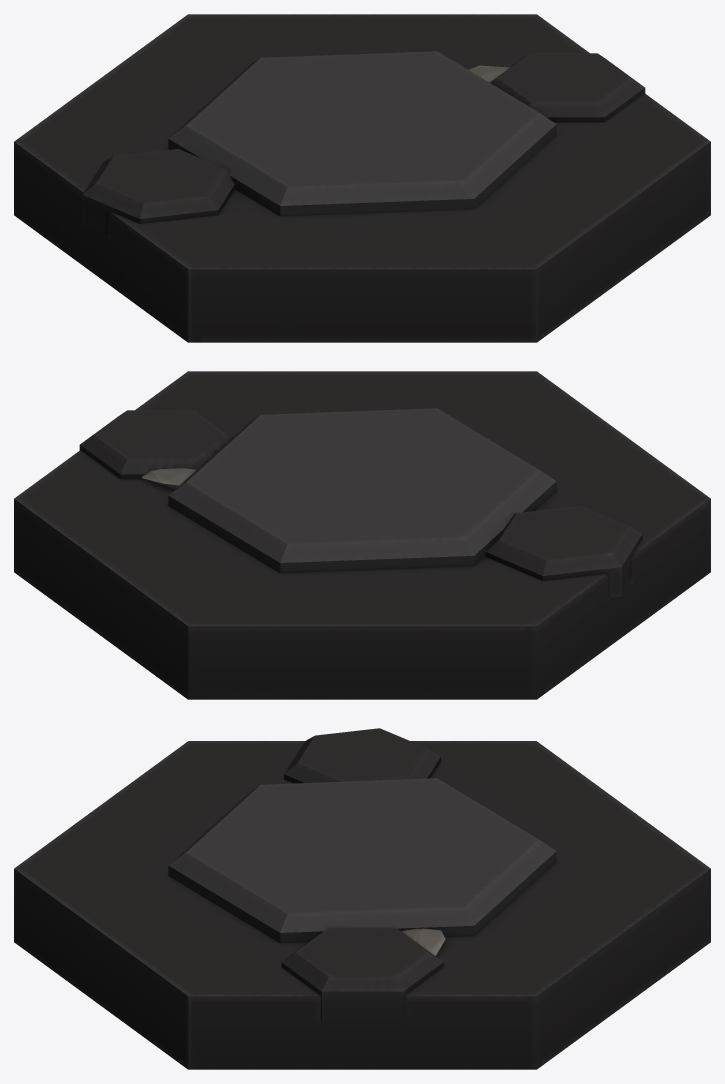
File: tile_hex_basalt_b.glb
The picture shows the model from 3 angles, top to bottom: view 1: azimuth 30°, elevation 25°; view 2: azimuth 150°, elevation 25°; view 3: azimuth 270°, elevation 25°; orthographic projection.
Visible parts, largest first — view 1: tile_hex_basalt_b; view 2: tile_hex_basalt_b; view 3: tile_hex_basalt_b.
Boxes of the visible parts, x1=… form: tile_hex_basalt_b: x1=14, y1=14, x2=710, y2=342; tile_hex_basalt_b: x1=14, y1=371, x2=710, y2=699; tile_hex_basalt_b: x1=14, y1=728, x2=710, y2=1069.
Bounding box in the file's own units: 1.13 × 0.196 × 1.29.
Materials: 1 (1 with a texture image).
